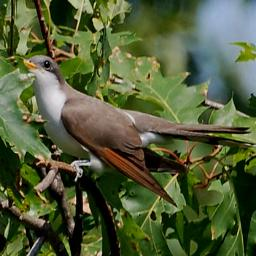Cuckoo: (23, 54, 256, 207)
